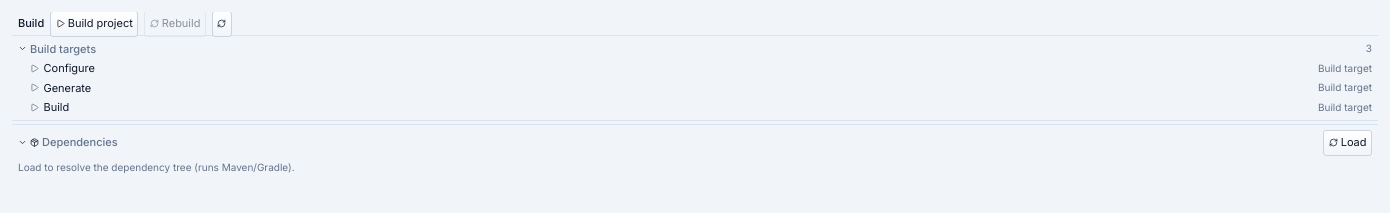
it: BuildPanel › runs recursive structured dependencies once and stops before the target on failure
This screenshot has width=1390, height=213.
Click the button with test id "build-panel-target-build": (1345, 107) top-left (12, 98), bottom-right (1378, 117)
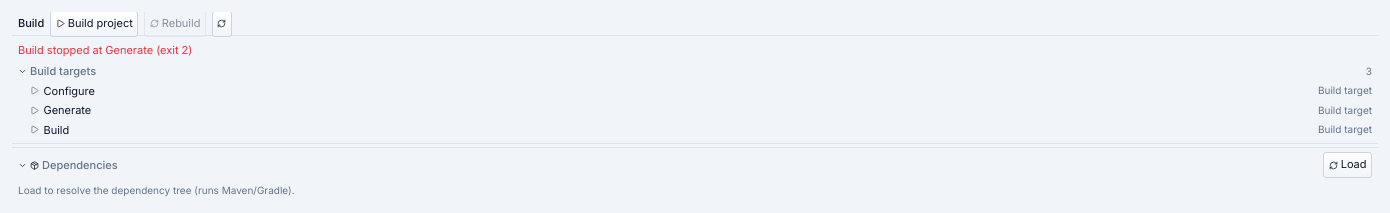
Expected: the text with test id "build-panel-execution-error" reads "Build stopped at Generate (exit 2)", top-left (18, 43), bottom-right (192, 57)
